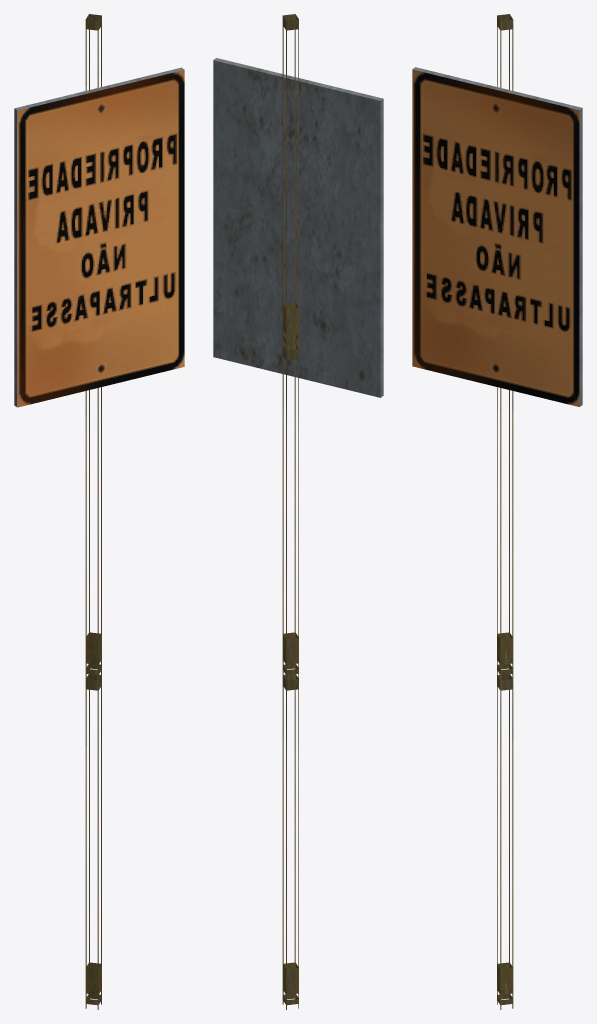
File: privatesign1.obj
3 renders of one model, left to right at view 1: azimuth 30°, elevation 25°; view 2: azimuth 150°, elevation 25°; view 3: azimuth 330°, elevation 25°, orthographic.
Visible parts, largest first — view 1: privatesign1; view 2: privatesign1; view 3: privatesign1.
Part boxes in pixels (left/top/right/bottom): privatesign1: left=14, top=14, right=184, bottom=1009; privatesign1: left=213, top=14, right=383, bottom=1009; privatesign1: left=412, top=14, right=582, bottom=1009.
Bounding box in the file's own units: 0.6199 × 3.5 × 0.0828.
